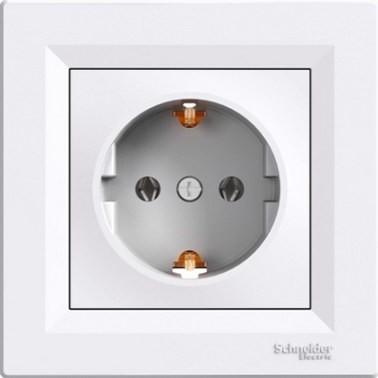raccoon: (93, 96, 285, 285)
